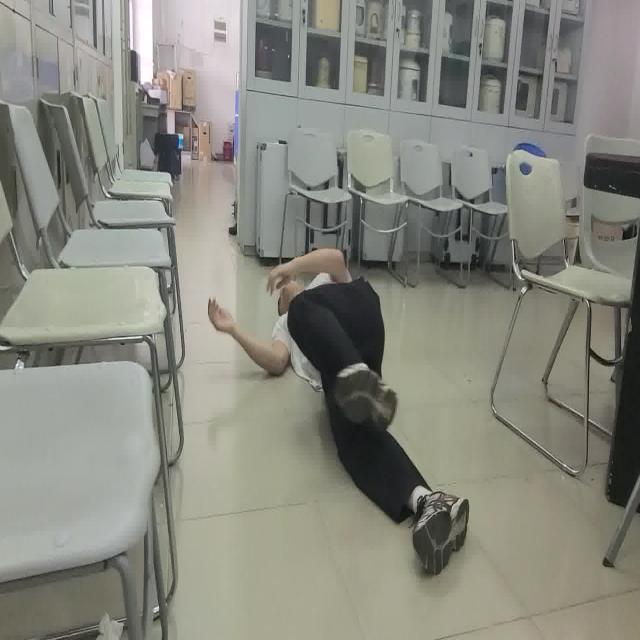fall: (207, 246, 472, 584)
